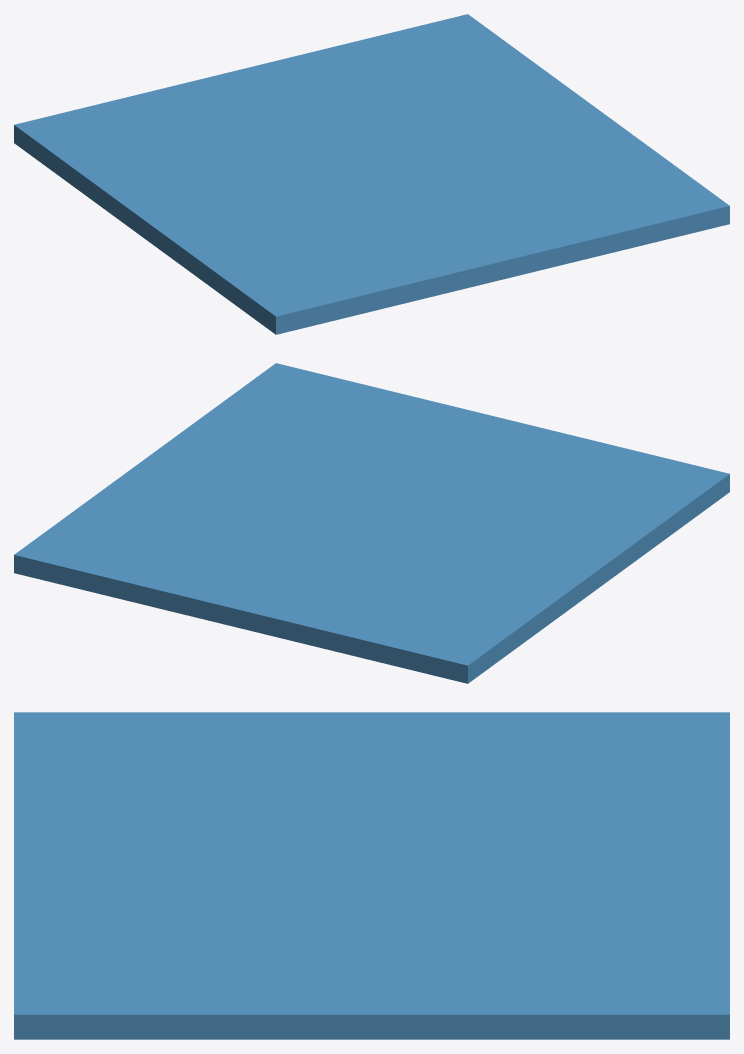
Rendered from platform_s.fbx.
The picture shows the model from 3 angles, top to bottom: view 1: azimuth 30°, elevation 25°; view 2: azimuth 150°, elevation 25°; view 3: azimuth 270°, elevation 25°; orthographic projection. The views are drawn at different scales.
Parts seen in each view (by area): view 1: ps; view 2: ps; view 3: ps.
Boxes of the visible parts, bbox=[...] form: ps: bbox=[14, 14, 729, 334]; ps: bbox=[14, 363, 729, 683]; ps: bbox=[14, 712, 729, 1039].
Bounding box in the file's own units: 3.07 × 0.1181 × 3.07.
